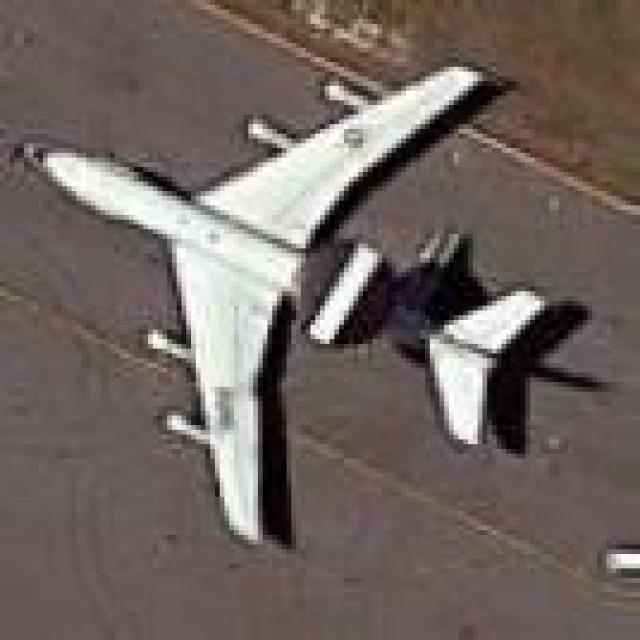E-3_TopDown: (17, 59, 622, 560)
